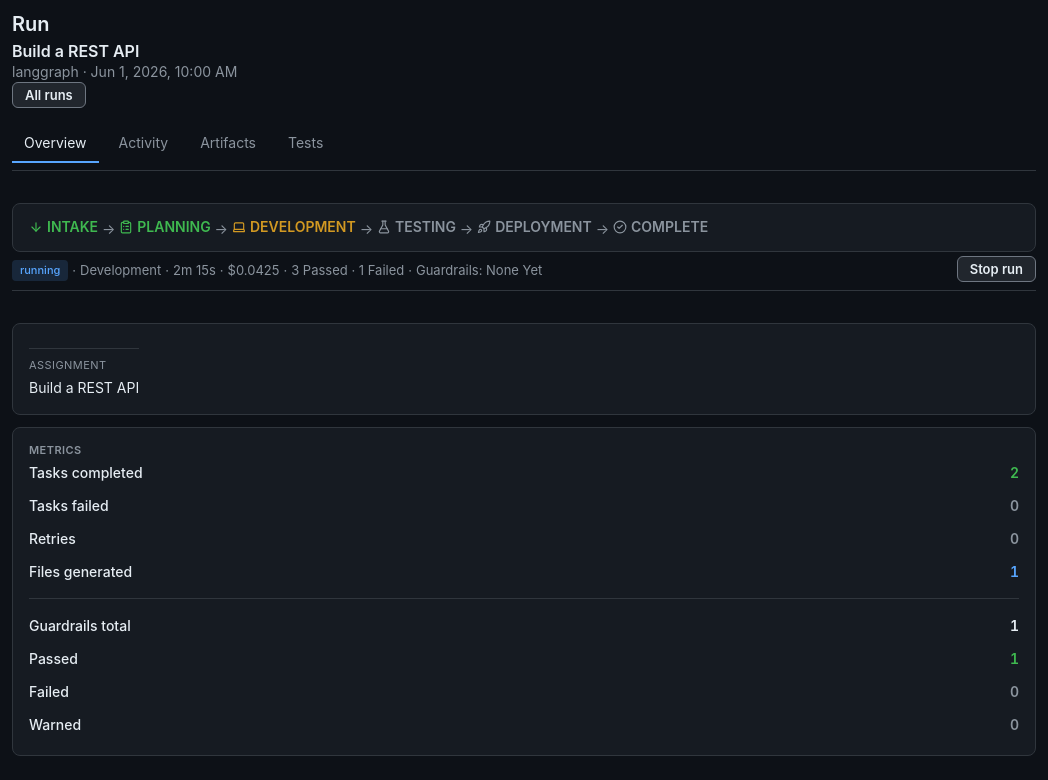
RunDetail — Phase 2/3 layout › expands activity log on activity tab
Click the tab with test id "run-tab-activity".
click(143, 144)  # box [107,124,180,163]
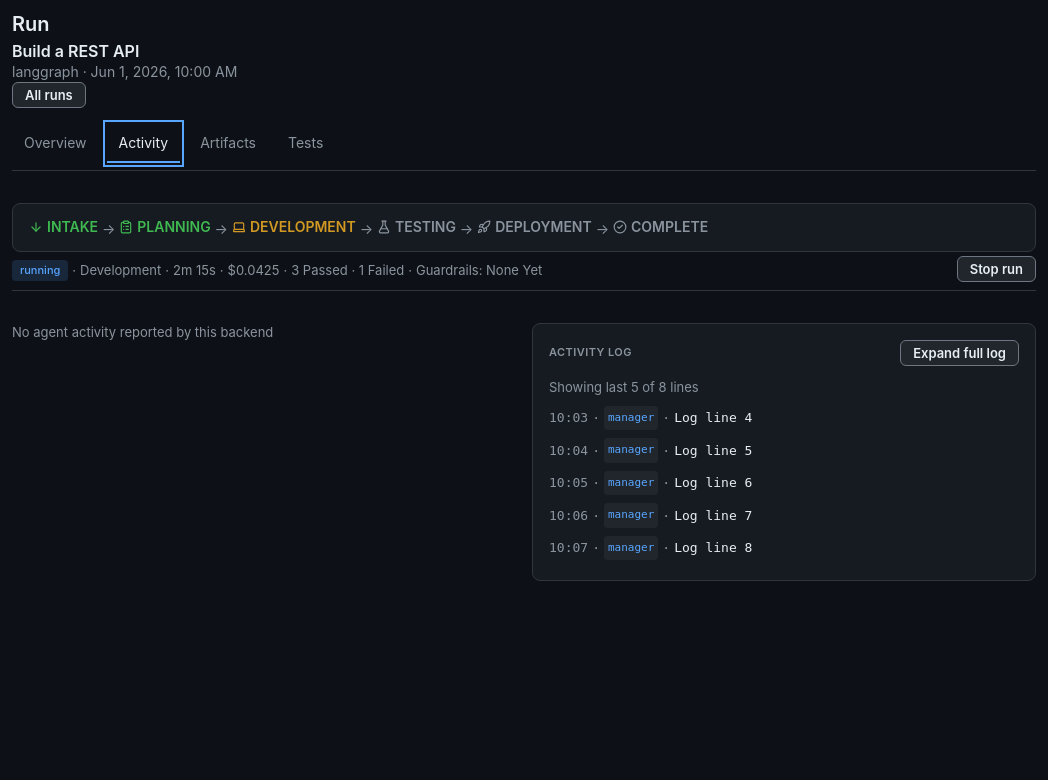
Expected: the button "Expand full log" is shown
Click the button "Expand full log".
click(960, 353)  # box [900,340,1019,366]
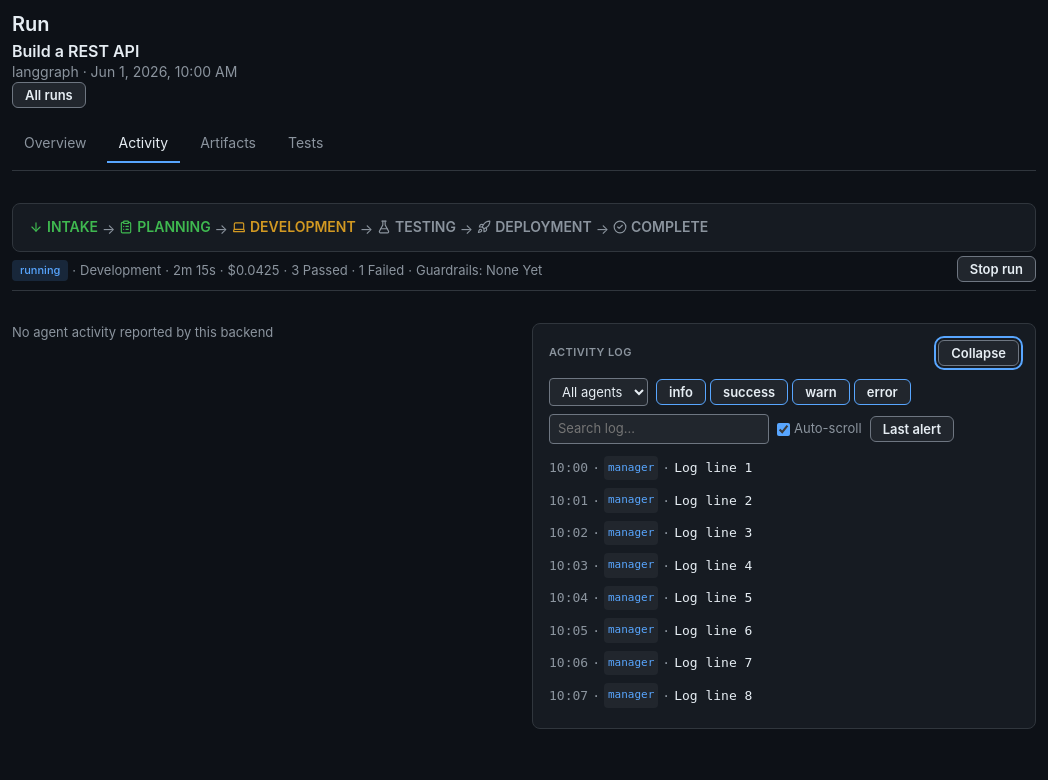
Expected: the text "Log line 1" is shown, [674,460,752,475]
Expected: the search field with test id "log-search" is shown, [549,414,769,444]
